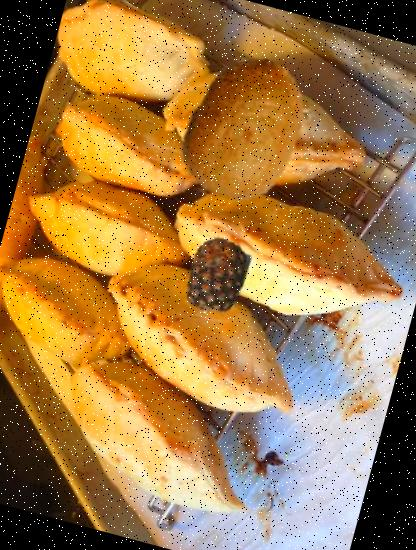Kiwi: (153, 40, 334, 221)
Pineapple: (170, 230, 264, 324)
